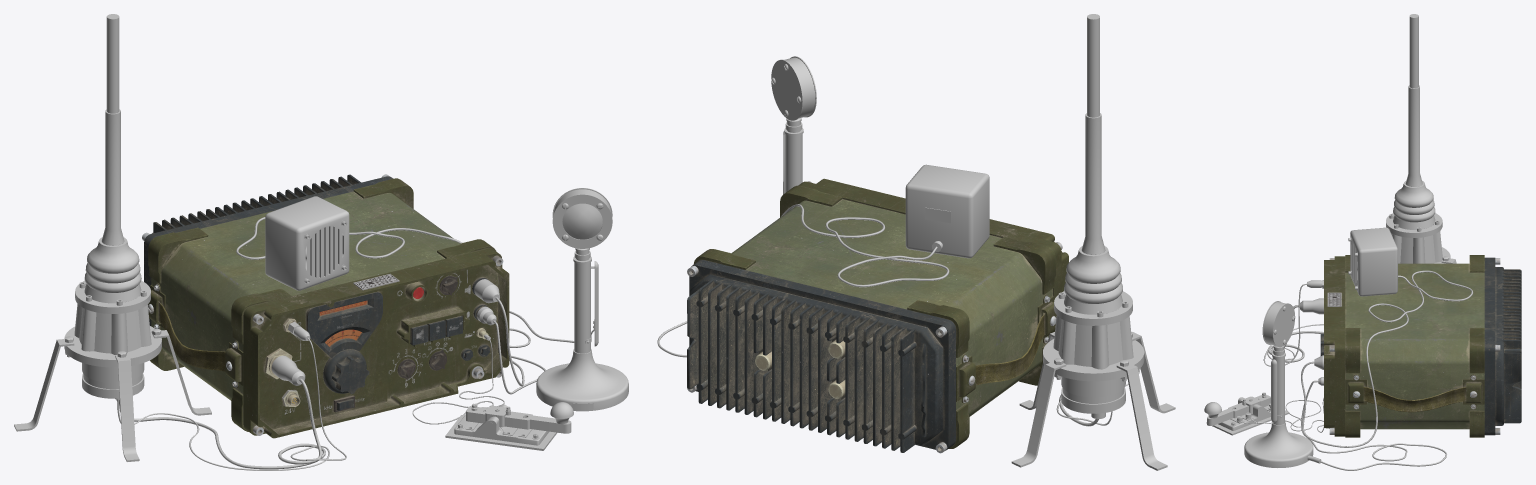
The model's file is vintage_radio_transceiver_4k.fbx.
The picture shows the model from 3 angles, left to right: view 1: azimuth 30°, elevation 25°; view 2: azimuth 150°, elevation 25°; view 3: azimuth 270°, elevation 25°; orthographic projection. The views are drawn at different scales.
Visible parts, largest first — view 1: vintage_radio_transceiver, vintage_radio_transceiver_antenna, vintage_radio_transceiver_microphone, vintage_radio_transceiver_speaker, vintage_radio_transceiver_cables, vintage_radio_transceiver_morse_key_base, vintage_radio_transceiver_morse_key_arm, vintage_radio_transceiver_dial, vintage_radio_transceiver_antenna_plug_a; view 2: vintage_radio_transceiver, vintage_radio_transceiver_antenna, vintage_radio_transceiver_speaker, vintage_radio_transceiver_microphone, vintage_radio_transceiver_cables; view 3: vintage_radio_transceiver, vintage_radio_transceiver_antenna, vintage_radio_transceiver_microphone, vintage_radio_transceiver_cables, vintage_radio_transceiver_speaker, vintage_radio_transceiver_morse_key_arm, vintage_radio_transceiver_morse_key_base.
Boxes of the visible parts, <box> form: vintage_radio_transceiver: <box>142,174,509,438</box>; vintage_radio_transceiver_antenna: <box>14,14,211,461</box>; vintage_radio_transceiver_microphone: <box>536,188,628,411</box>; vintage_radio_transceiver_speaker: <box>265,196,349,290</box>; vintage_radio_transceiver_cables: <box>117,217,574,470</box>; vintage_radio_transceiver_morse_key_base: <box>445,404,557,450</box>; vintage_radio_transceiver_morse_key_arm: <box>466,402,573,433</box>; vintage_radio_transceiver_dial: <box>323,329,369,393</box>; vintage_radio_transceiver_antenna_plug_a: <box>271,355,305,385</box>; vintage_radio_transceiver: <box>687,178,1068,453</box>; vintage_radio_transceiver_antenna: <box>1011,14,1175,470</box>; vintage_radio_transceiver_speaker: <box>905,164,989,258</box>; vintage_radio_transceiver_microphone: <box>771,56,816,194</box>; vintage_radio_transceiver_cables: <box>657,204,1139,426</box>; vintage_radio_transceiver: <box>1324,255,1521,437</box>; vintage_radio_transceiver_antenna: <box>1386,14,1456,263</box>; vintage_radio_transceiver_microphone: <box>1244,301,1321,467</box>; vintage_radio_transceiver_cables: <box>1261,270,1473,470</box>; vintage_radio_transceiver_speaker: <box>1348,227,1397,296</box>; vintage_radio_transceiver_morse_key_arm: <box>1204,392,1270,425</box>; vintage_radio_transceiver_morse_key_base: <box>1206,397,1289,435</box>.
Bounding box in the file's own units: 57.4 × 43.44 × 41.31.
